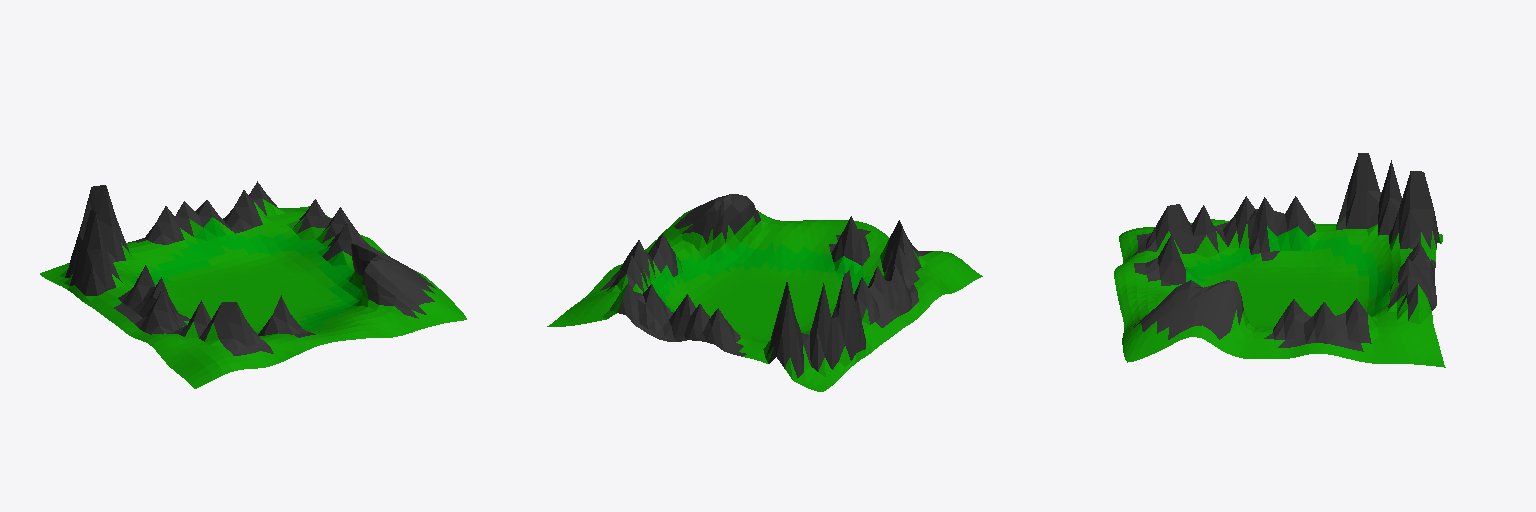
File: testscene.obj
3 renders of one model, left to right at view 1: azimuth 30°, elevation 25°; view 2: azimuth 150°, elevation 25°; view 3: azimuth 270°, elevation 25°, orthographic.
Parts seen in each view (by area): view 1: Plane; view 2: Plane; view 3: Plane.
Part boxes in pixels (x1,y1,x2,y2): Plane: (40,181,466,388); Plane: (547,194,982,391); Plane: (1114,153,1445,367).
Bounding box in the file's own units: 38.08 × 11.61 × 39.42.